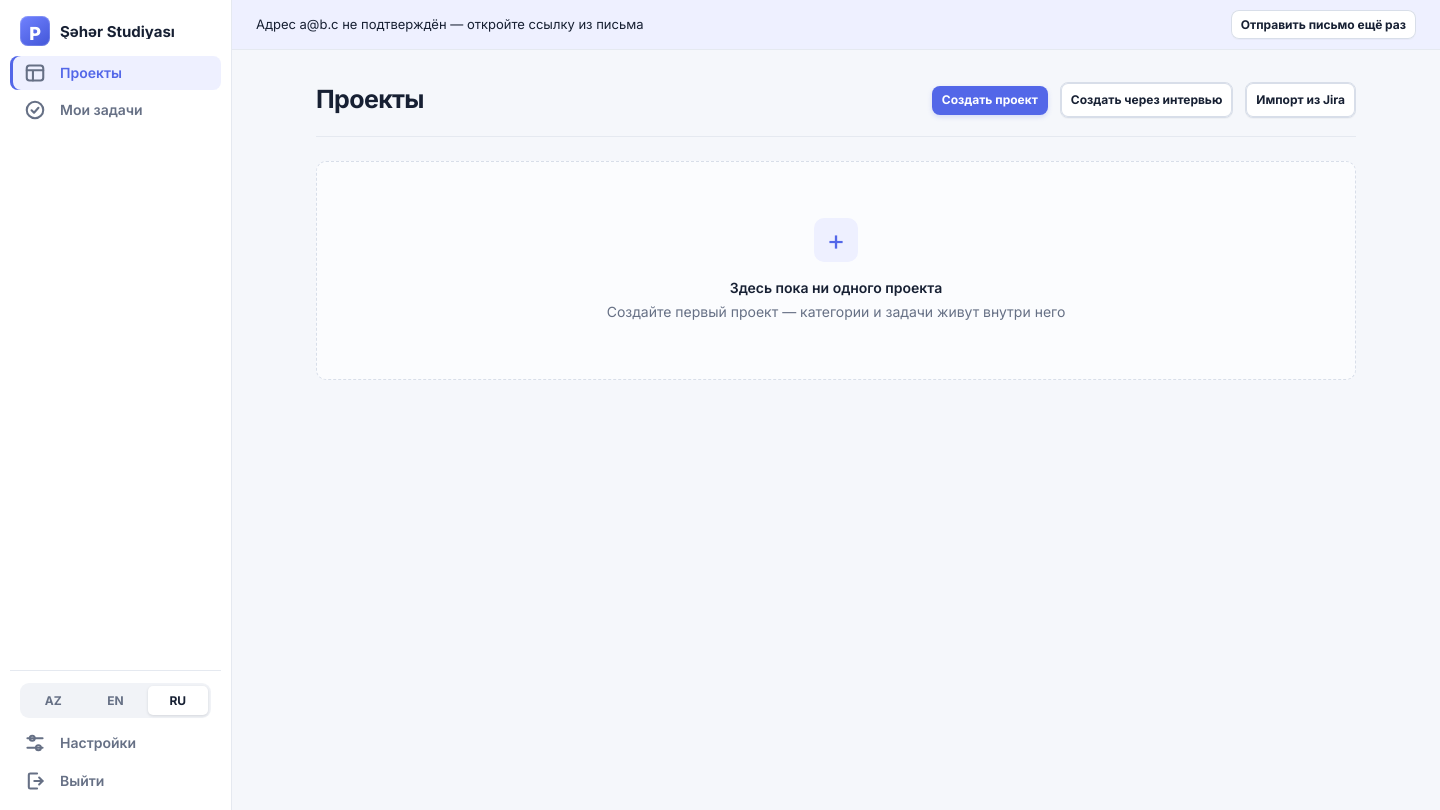
Test: полоска «адрес не подтверждён» › отправляет письмо ещё раз и говорит, на какой адрес
Click the button "Отправить письмо ещё раз" at point(1323, 24), box [1231,10,1416,39]
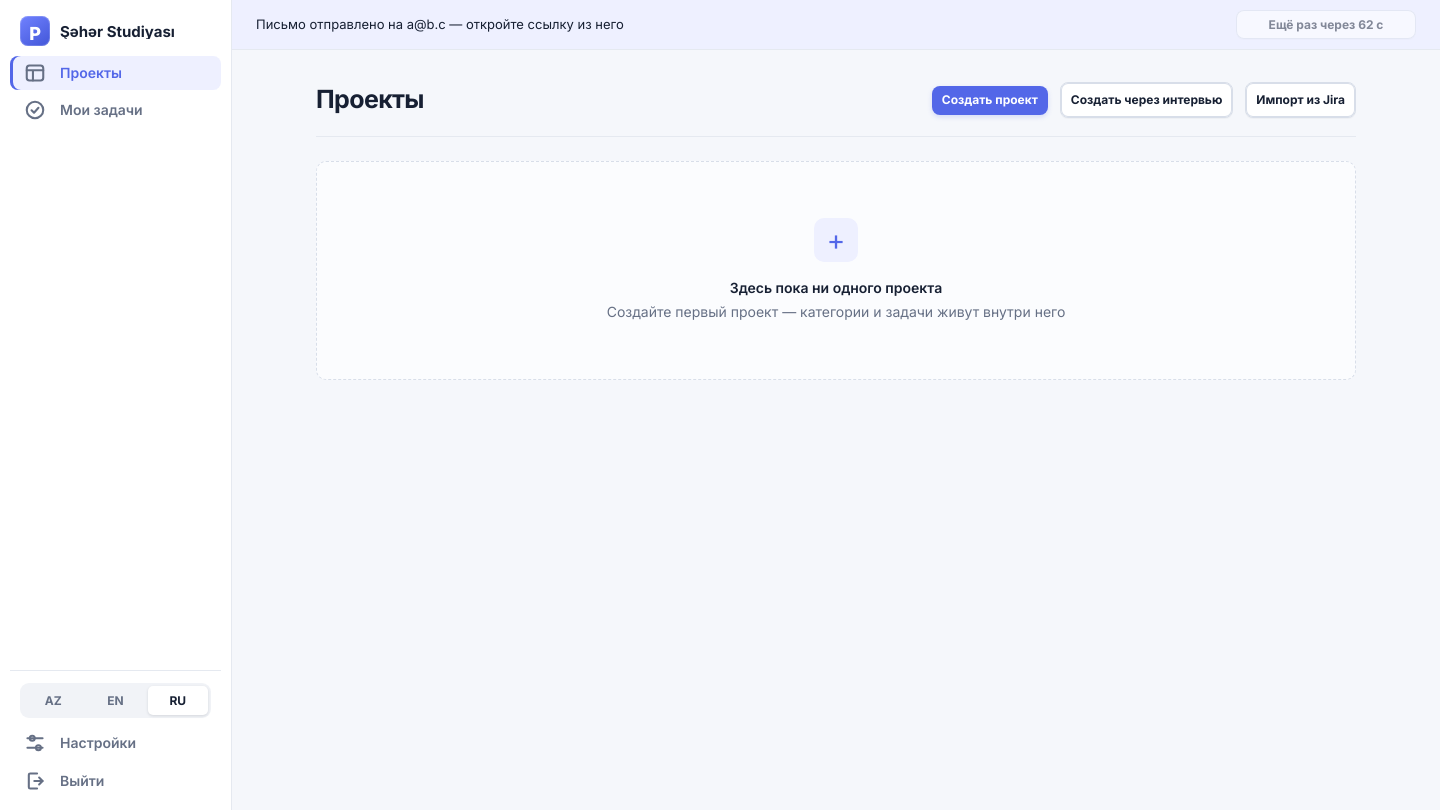
Result: the text "Письмо отправлено на a@b.c — откройте ссылку из него" is shown at [256,16,624,32]
Result: the button "Ещё раз через 62 с" is disabled at [1236,10,1416,39]
